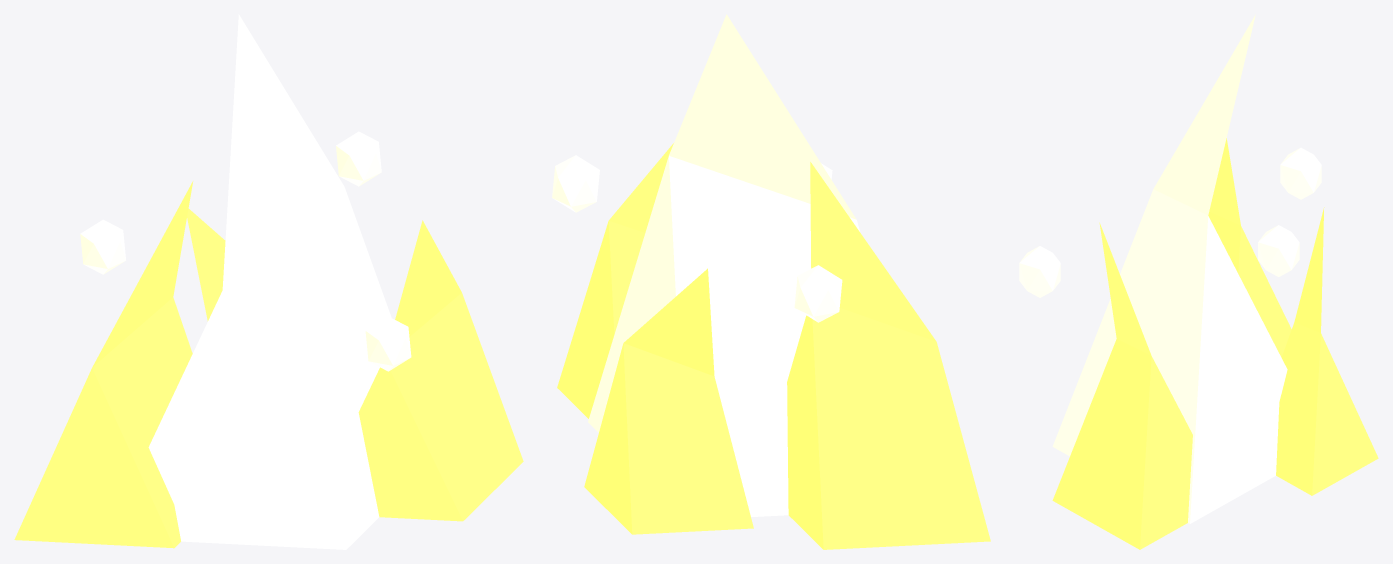
File: entry_dawn_meadow_special.fbx
3 renders of one model, left to right at view 1: azimuth 30°, elevation 25°; view 2: azimuth 150°, elevation 25°; view 3: azimuth 270°, elevation 25°, orthographic. The views are drawn at different scales.
Visible parts, largest first — view 1: chunk_entry_dawn_meadow__fire; view 2: chunk_entry_dawn_meadow__fire; view 3: chunk_entry_dawn_meadow__fire.
Part boxes in pixels (x1=…): chunk_entry_dawn_meadow__fire: x1=14, y1=14, x2=523, y2=549; chunk_entry_dawn_meadow__fire: x1=552, y1=14, x2=990, y2=549; chunk_entry_dawn_meadow__fire: x1=1019, y1=14, x2=1378, y2=549.
Bounding box in the file's own units: 4.55 × 4.3 × 3.24.
